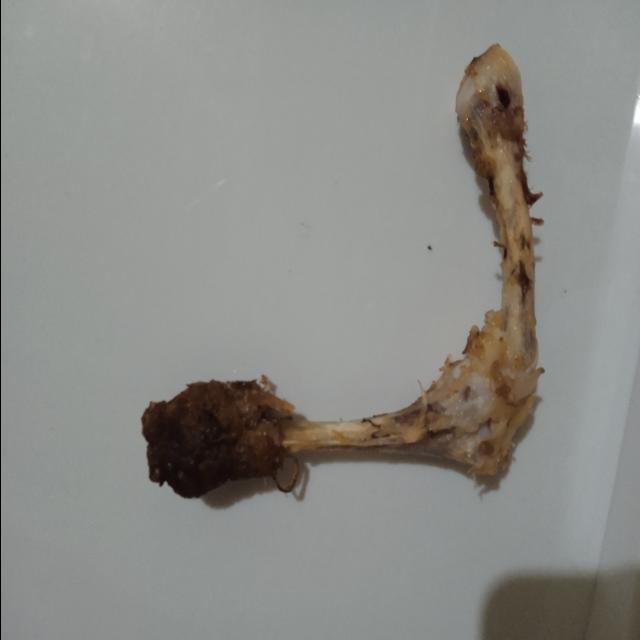bone: (134, 38, 550, 512)
